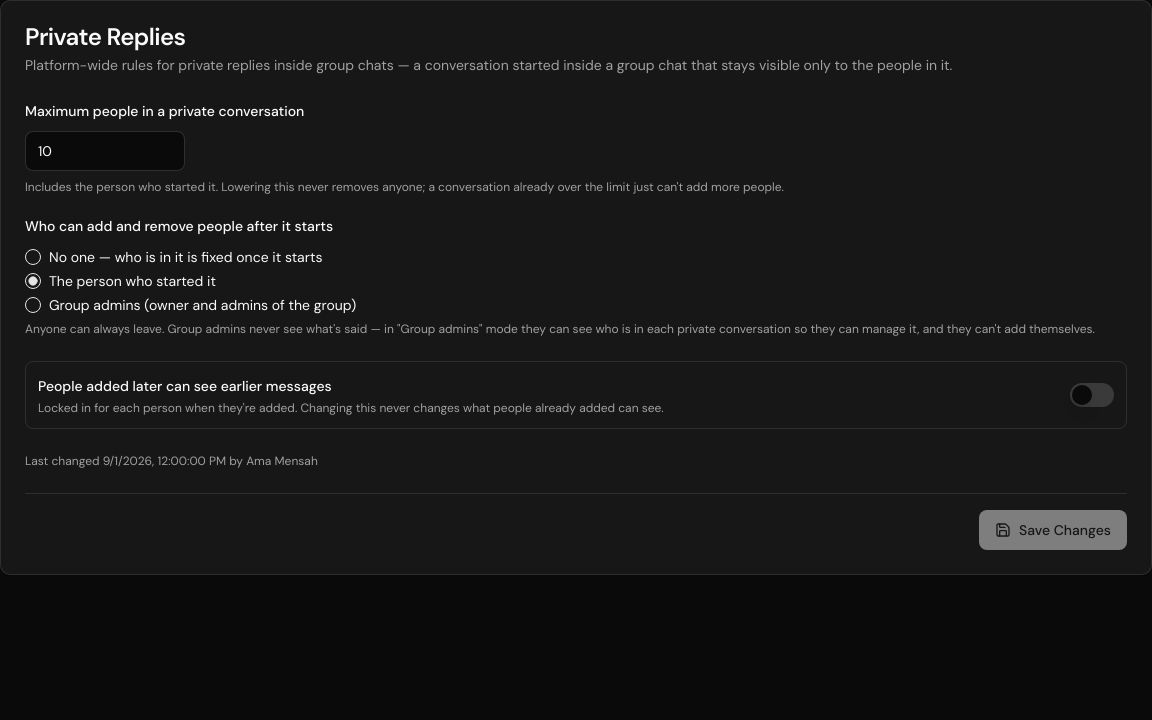
it: PrivateReplySettingsCard › enables Save on a valid change and saves successfully
This screenshot has width=1152, height=720.
Later steps or results of the test are not shown.
Step 1. Replace the text in the number field labelled "Maximum people in a private conversation" with "20" → (105, 151), box [25, 131, 185, 171]
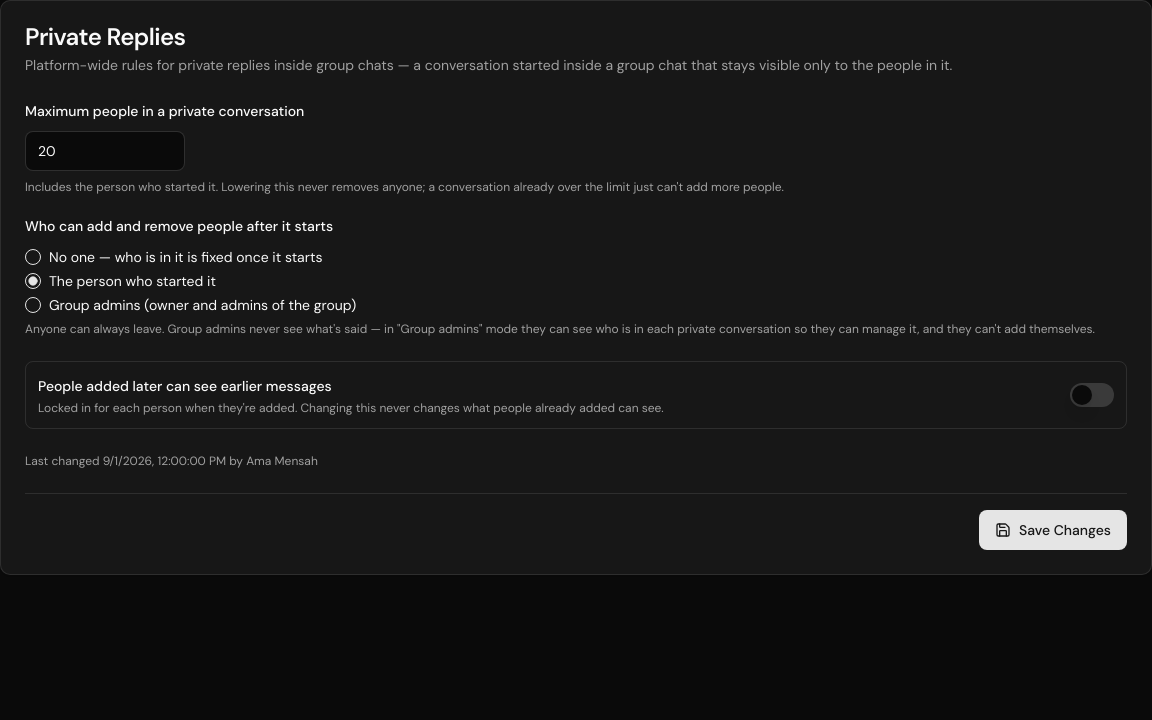
Now the button "Save Changes" is enabled, box [979, 510, 1127, 550]
